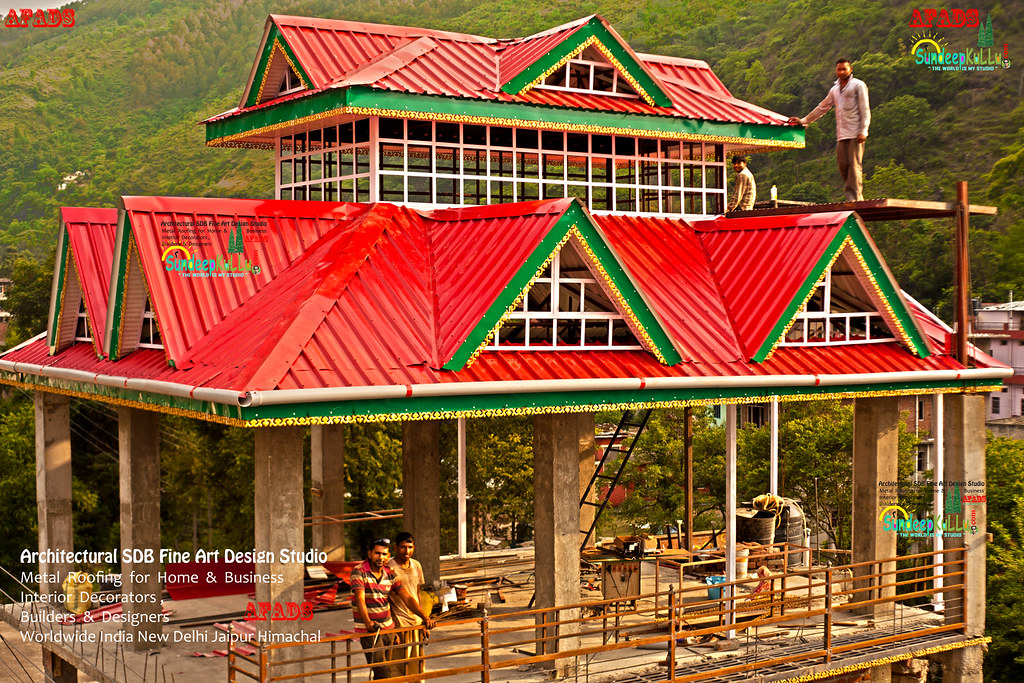Tin-shade House: (27, 9, 1004, 535)
